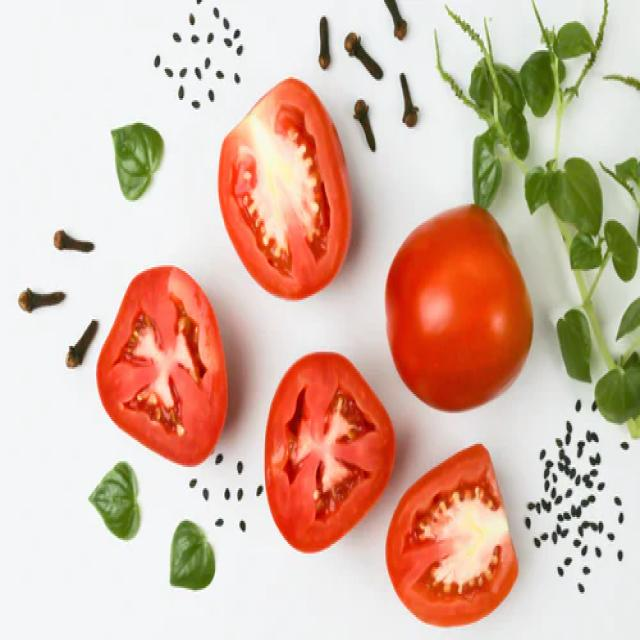Tomato: (219, 83, 377, 316), (373, 435, 531, 637), (248, 348, 405, 540), (100, 264, 230, 474)
